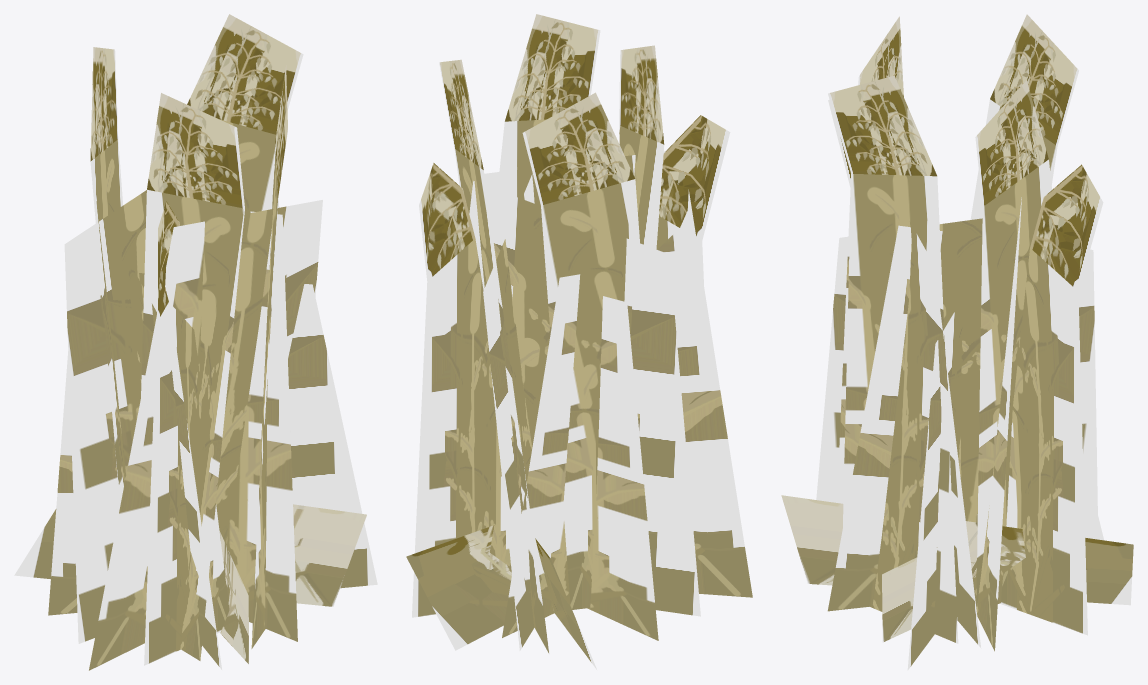
The model's file is PT_Oat_01.fbx.
3 views of the same model, side by side, from view 1: azimuth 30°, elevation 25°; view 2: azimuth 150°, elevation 25°; view 3: azimuth 270°, elevation 25° (orthographic).
Visible parts, largest first — view 1: PT_Oat_01_LOD0; view 2: PT_Oat_01_LOD0; view 3: PT_Oat_01_LOD0.
Part boxes in pixels (left/top/right/bottom): PT_Oat_01_LOD0: left=14, top=14, right=377, bottom=670; PT_Oat_01_LOD0: left=406, top=14, right=752, bottom=669; PT_Oat_01_LOD0: left=781, top=14, right=1133, bottom=670.
Size of what is drawn, in the model's own units: 89.08 by 153 by 88.93.
